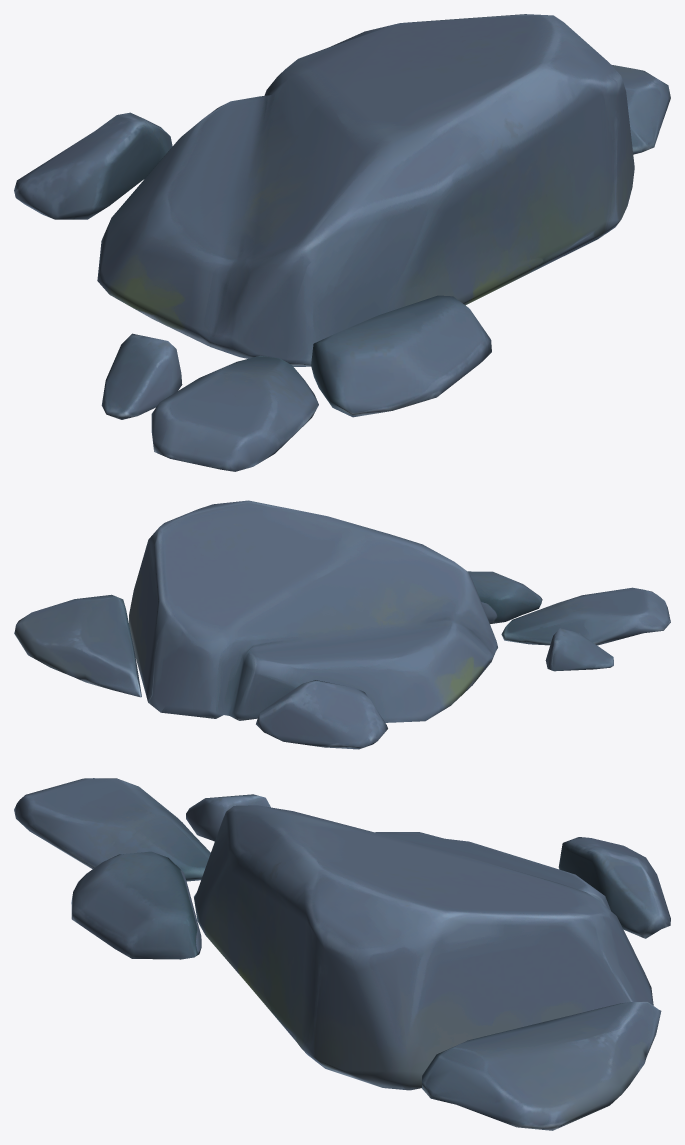
File: SM_Stone_02.glb
The picture shows the model from 3 angles, top to bottom: view 1: azimuth 30°, elevation 25°; view 2: azimuth 150°, elevation 25°; view 3: azimuth 270°, elevation 25°; orthographic projection. The views are drawn at different scales.
Visible parts, largest first — view 1: SM_Stone_02; view 2: SM_Stone_02; view 3: SM_Stone_02.
Part boxes in pixels (x1,y1,x2,y2): SM_Stone_02: (14, 14, 670, 471); SM_Stone_02: (14, 500, 670, 749); SM_Stone_02: (14, 778, 670, 1130).
Bounding box in the file's own units: 3.38 × 0.8061 × 2.77.
1 material, 1 textured.
